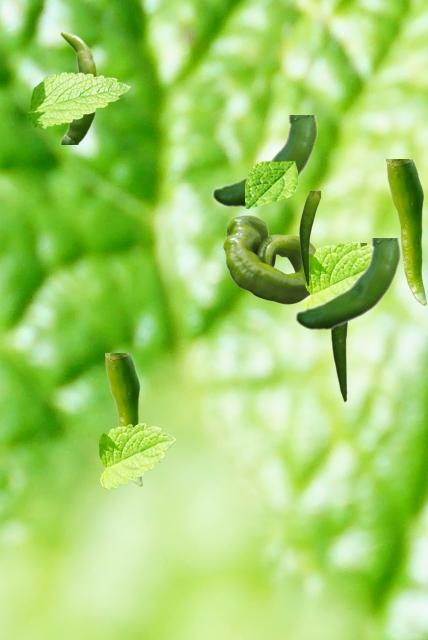green_chili: (211, 115, 316, 207), (294, 238, 399, 330), (223, 215, 316, 303), (386, 159, 425, 304), (330, 243, 365, 401), (105, 353, 141, 485), (59, 30, 98, 143), (299, 191, 319, 285)
